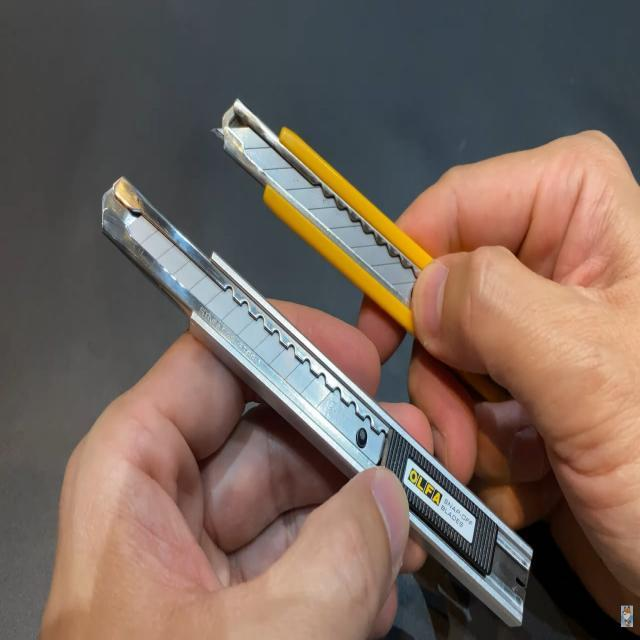cutter: (55, 31, 640, 621)
